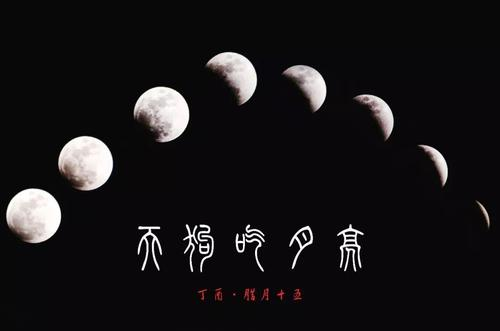moon: (5, 186, 61, 244), (57, 134, 113, 190), (133, 86, 189, 142), (205, 48, 257, 108), (279, 64, 327, 112), (349, 94, 393, 138), (415, 142, 449, 188), (475, 198, 491, 228)
